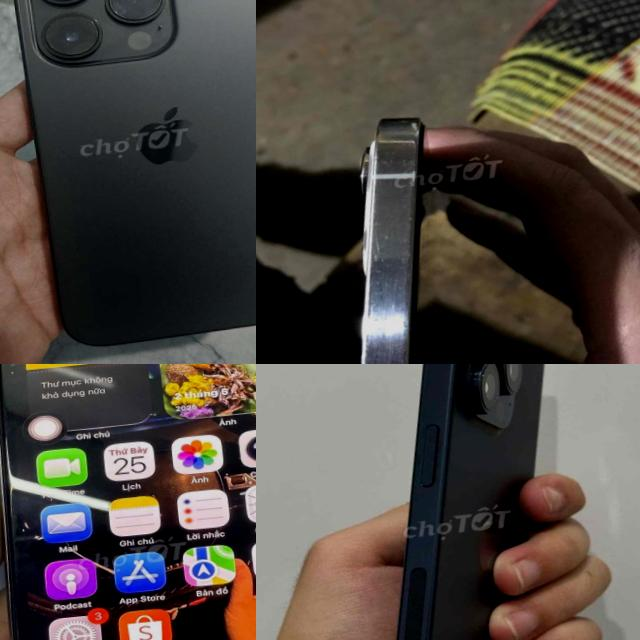gen_11: (0, 364, 256, 640)
gen_12_13: (275, 76, 507, 364)
gen_14: (0, 0, 256, 359)
gen_15: (321, 364, 600, 640)
